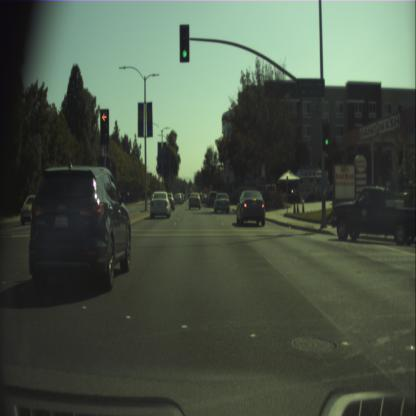Green: (179, 24, 189, 61), (323, 122, 330, 150)
RedLeft: (100, 109, 109, 143)
